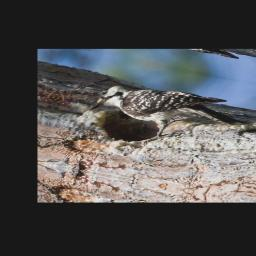Woodpecker: (82, 71, 256, 154)
